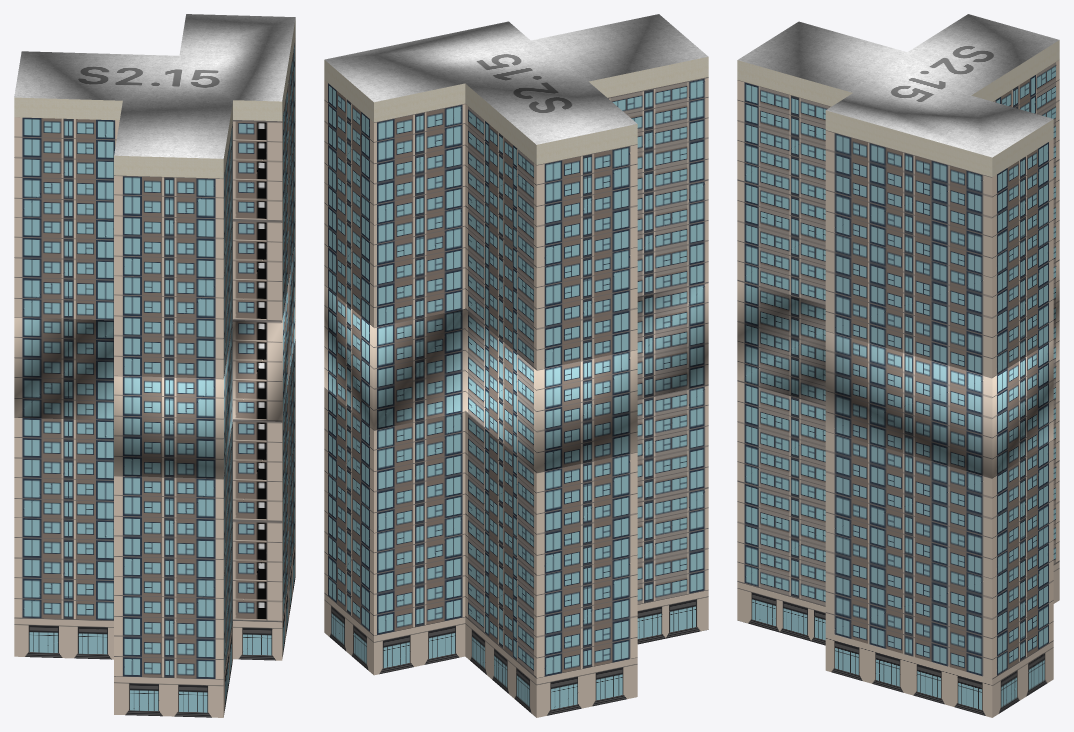
3 renders of one model, left to right at view 1: azimuth 30°, elevation 25°; view 2: azimuth 150°, elevation 25°; view 3: azimuth 270°, elevation 25°, orthographic. The views are drawn at different scales.
Parts seen in each view (by area): view 1: Asset3DLoader.sceneRoot; view 2: Asset3DLoader.sceneRoot; view 3: Asset3DLoader.sceneRoot.
Part boxes in pixels (bbox=[...]): Asset3DLoader.sceneRoot: bbox=[14, 14, 295, 717]; Asset3DLoader.sceneRoot: bbox=[324, 14, 708, 717]; Asset3DLoader.sceneRoot: bbox=[737, 14, 1059, 717].
Bounding box in the file's own units: 52.48 × 95.5 × 49.77.
Materials: 1 (1 with a texture image).
